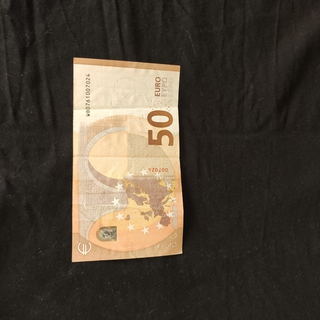50EUROBack: (70, 56, 184, 263)
